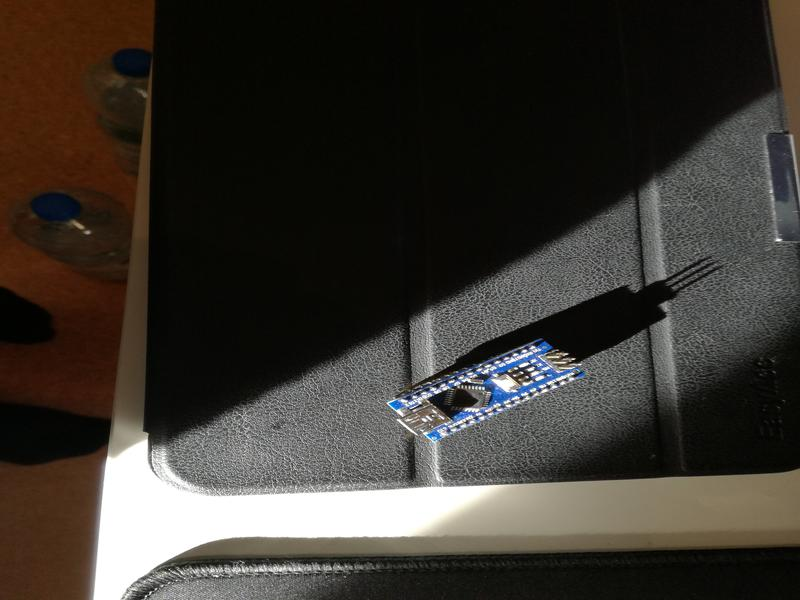Arduino_Nano: (383, 336, 591, 444)
